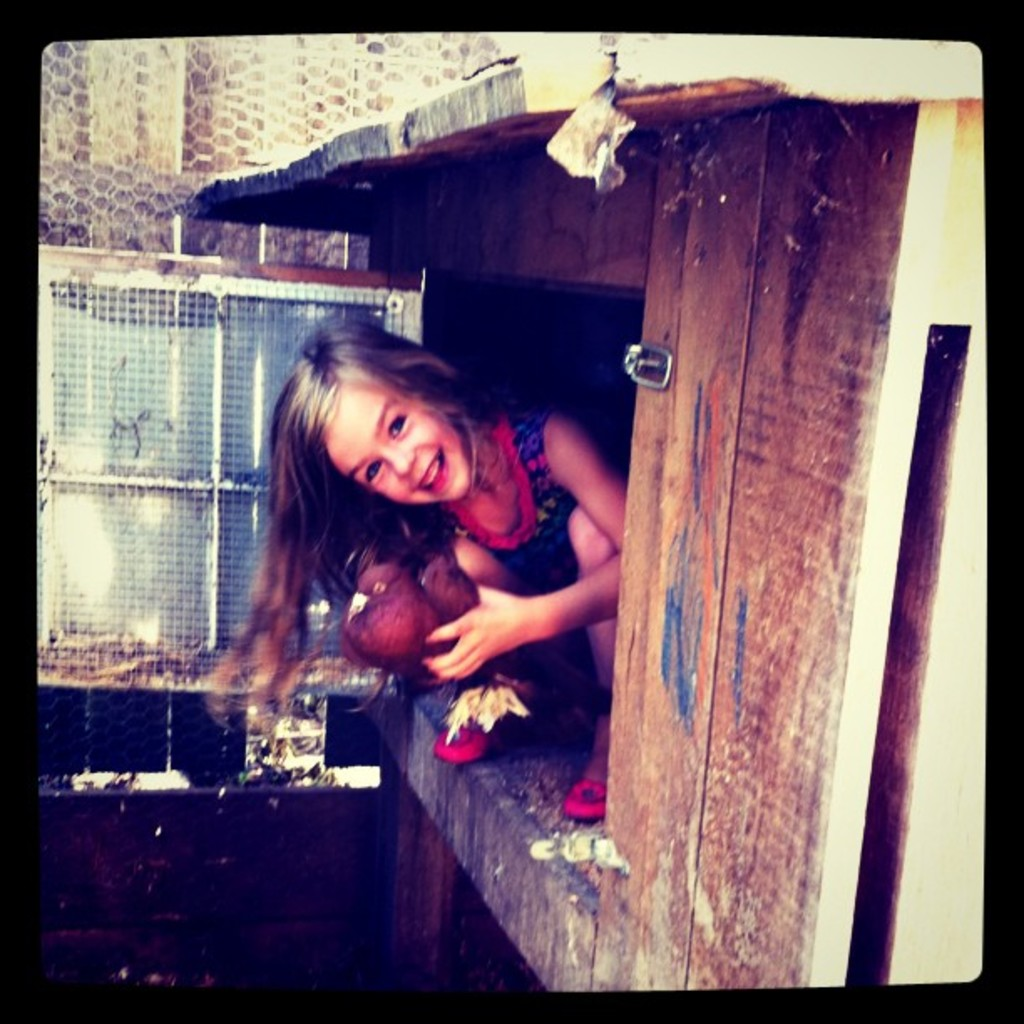Human_hand: (402, 589, 539, 706)
